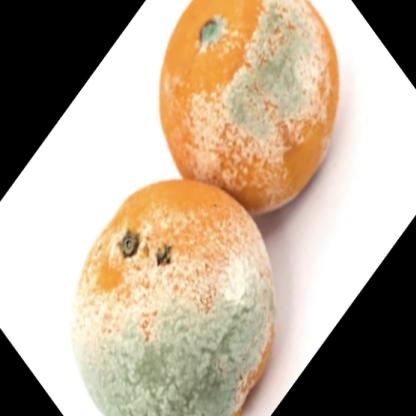rotten: (72, 1, 340, 416)
